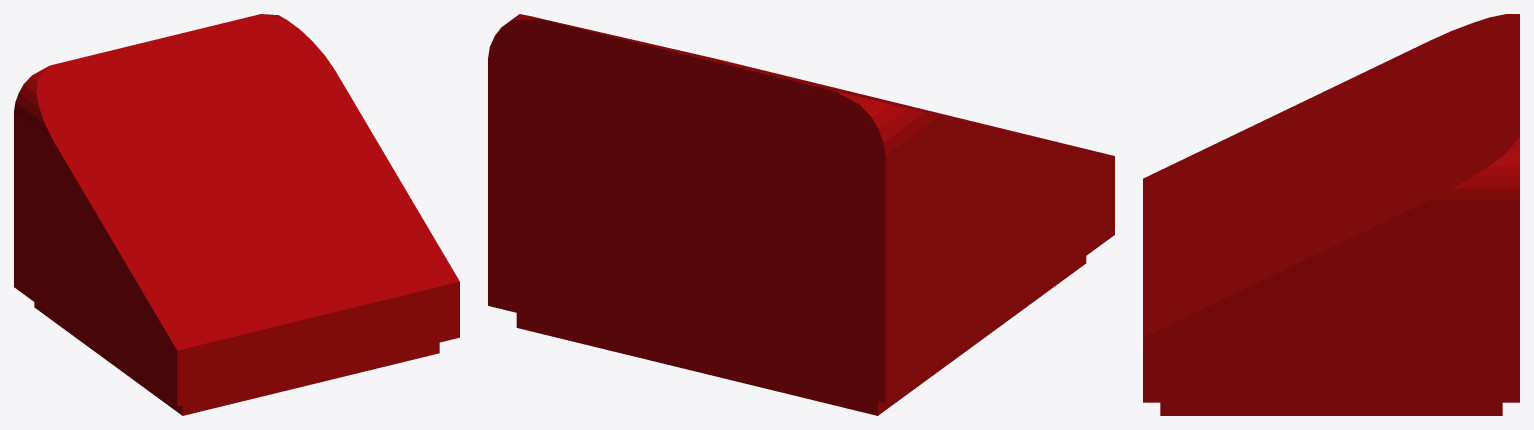
File: 54200 roof tile 1x1.dae
3 views of the same model, side by side, from view 1: azimuth 30°, elevation 25°; view 2: azimuth 150°, elevation 25°; view 3: azimuth 270°, elevation 25° (orthographic). The views are drawn at different scales.
Parts seen in each view (by area): view 1: Part_54200.1; view 2: Part_54200.1; view 3: Part_54200.1.
Boxes of the visible parts, x1=… form: Part_54200.1: x1=14, y1=14, x2=459, y2=415; Part_54200.1: x1=488, y1=14, x2=1114, y2=415; Part_54200.1: x1=1143, y1=14, x2=1519, y2=415.
Size of the model in its own units: 7.92 by 6.18 by 7.92.
